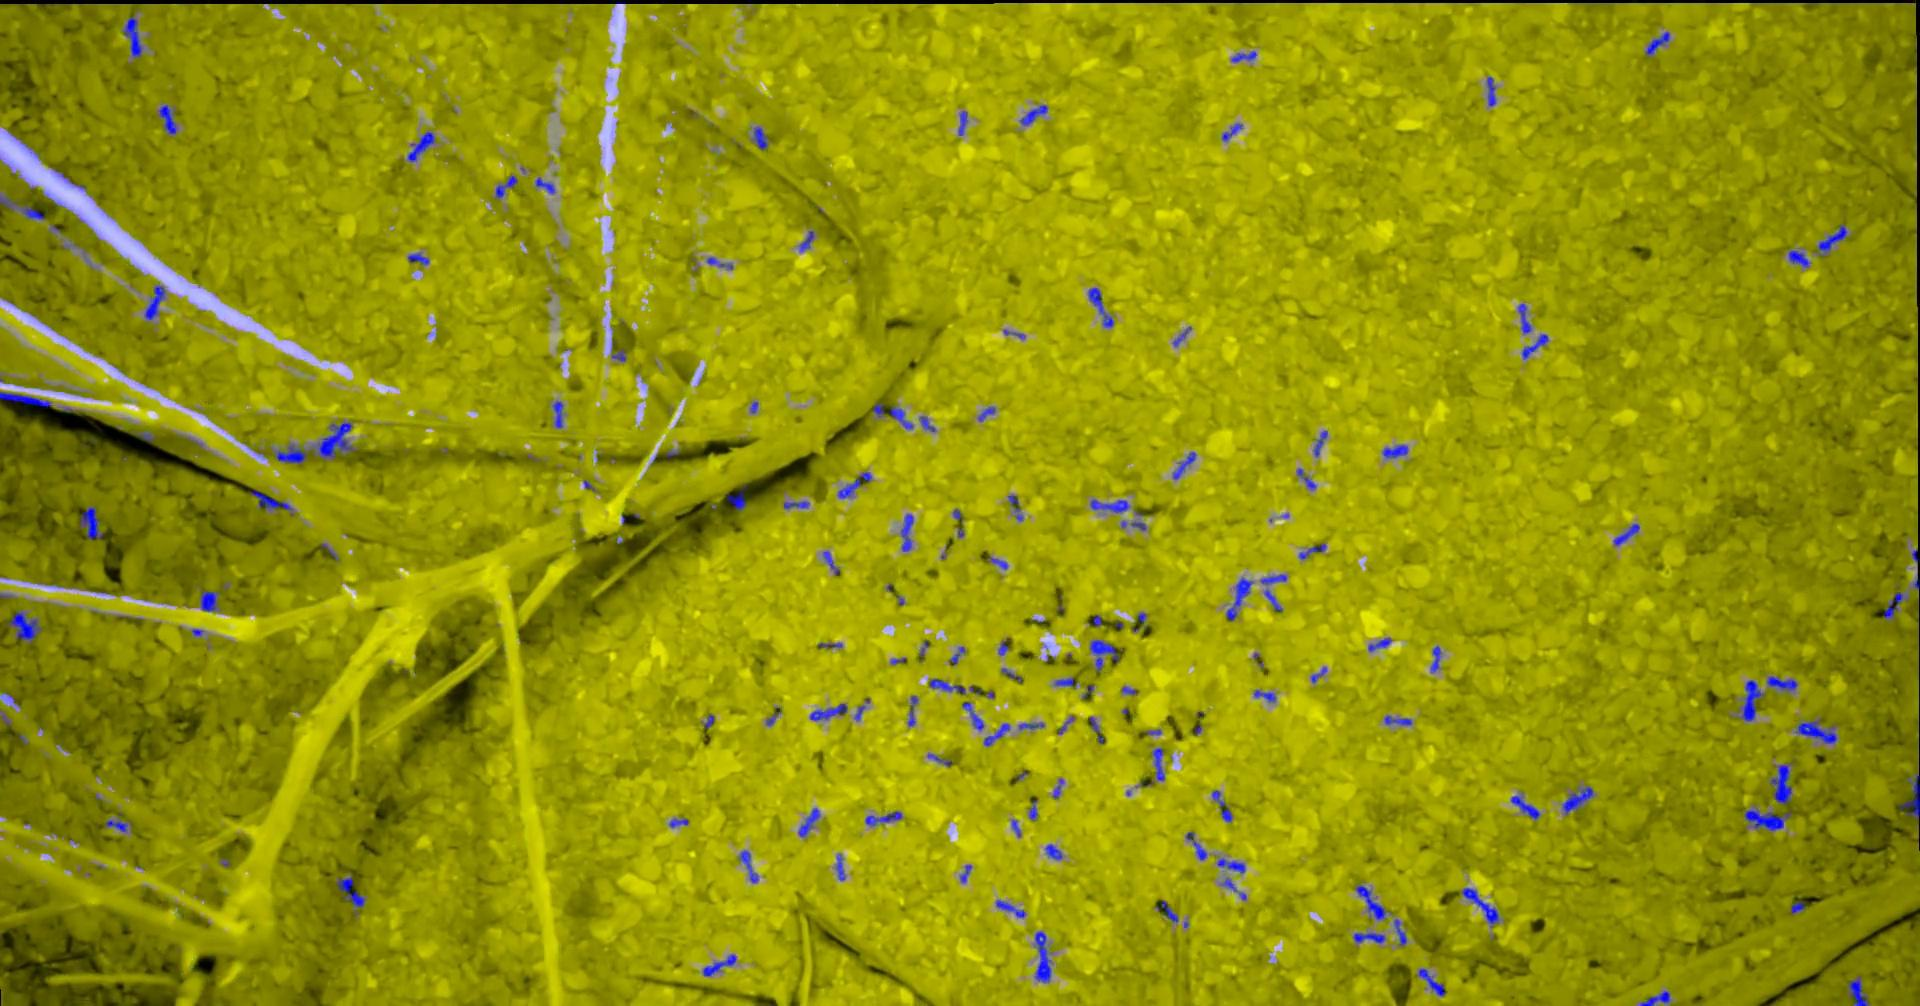ant: (1463, 887, 1500, 927), (315, 422, 354, 459), (1357, 884, 1393, 920), (1901, 768, 1920, 829), (1228, 577, 1255, 620), (251, 489, 295, 514), (9, 610, 43, 641), (1091, 639, 1123, 672), (338, 871, 367, 907), (1090, 287, 1115, 326), (1745, 809, 1793, 829), (1796, 720, 1837, 743), (1818, 224, 1848, 255), (1743, 680, 1765, 721), (1771, 763, 1793, 803), (839, 473, 872, 498), (1036, 931, 1053, 982), (409, 131, 436, 161), (1564, 786, 1595, 813), (81, 506, 105, 539), (1, 391, 53, 406), (124, 17, 143, 57), (1420, 968, 1448, 995), (146, 285, 168, 319), (703, 954, 737, 976), (1523, 334, 1550, 359), (1512, 795, 1542, 819), (811, 702, 850, 720), (1884, 586, 1905, 619), (963, 701, 985, 730), (1213, 790, 1234, 821), (1175, 451, 1197, 479), (800, 807, 822, 836), (1849, 976, 1870, 1005), (276, 445, 309, 464), (1647, 30, 1671, 55), (985, 723, 1011, 746), (1021, 104, 1049, 124), (1187, 831, 1208, 859), (742, 850, 759, 882), (930, 678, 966, 694), (891, 405, 914, 429), (1615, 523, 1641, 545), (867, 810, 903, 826), (497, 175, 519, 198), (997, 899, 1026, 917), (902, 514, 916, 551), (1092, 499, 1129, 512), (1157, 901, 1178, 922), (1641, 989, 1671, 1005), (161, 104, 177, 133), (1768, 676, 1799, 690), (728, 489, 748, 511), (1298, 467, 1317, 489), (1300, 542, 1327, 558), (1090, 716, 1105, 743), (1219, 857, 1246, 873), (824, 551, 841, 575), (1519, 304, 1533, 332), (1266, 589, 1284, 611), (1154, 747, 1166, 780), (1369, 636, 1393, 652), (1223, 123, 1244, 140), (202, 589, 218, 611), (1316, 431, 1330, 456), (1010, 494, 1023, 520), (1396, 920, 1408, 946), (22, 205, 46, 218), (537, 177, 557, 193), (1790, 250, 1811, 267), (754, 127, 770, 149), (709, 257, 734, 269), (1384, 445, 1410, 457), (1354, 932, 1385, 942), (105, 819, 133, 831), (909, 695, 919, 725), (801, 230, 815, 251), (1233, 51, 1258, 62), (1255, 690, 1277, 702), (1385, 715, 1413, 725), (409, 251, 430, 264), (554, 400, 564, 427), (1488, 76, 1497, 105), (1262, 574, 1288, 584), (1432, 645, 1443, 671), (959, 111, 969, 135), (837, 854, 846, 880), (1048, 843, 1063, 859), (980, 406, 997, 420), (921, 417, 936, 431), (1, 196, 17, 208), (874, 401, 886, 417), (785, 500, 810, 508), (1020, 721, 1045, 729), (1792, 901, 1807, 913), (1057, 677, 1078, 686), (1030, 799, 1039, 819), (670, 818, 690, 827), (613, 349, 627, 361)
